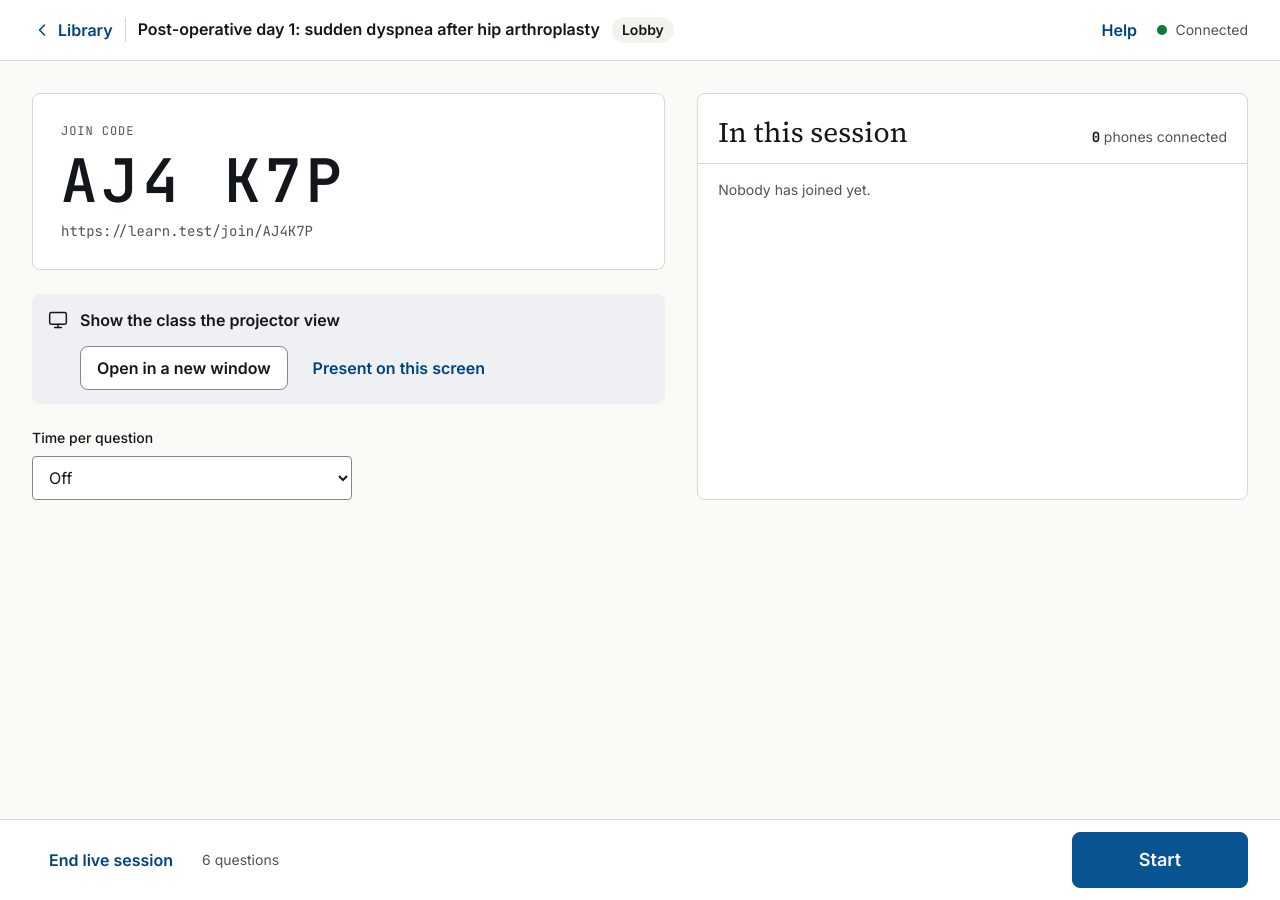
it: HostLobby running a case study (#184) › names the CJMM step with the position, and moves with the room
The width and height of the screenshot is (1280, 900).
Click the button "Start".
click(1160, 860)  # box 1072,832 -> 1248,888
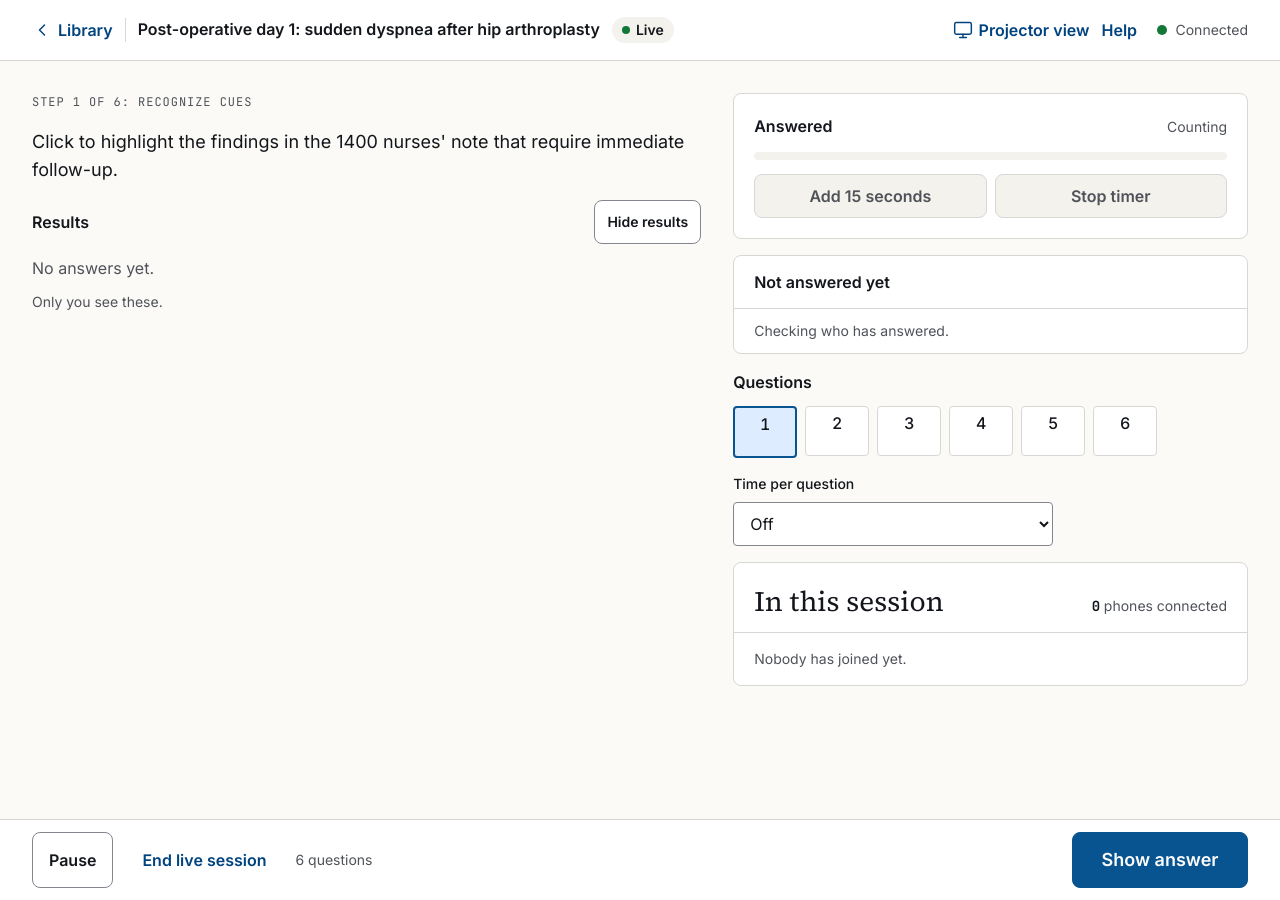
Now the text "Step 1 of 6: Recognize Cues" is shown, box 32,94 -> 252,110
Click the button "Show answer".
click(1160, 860)  # box 1072,832 -> 1248,888
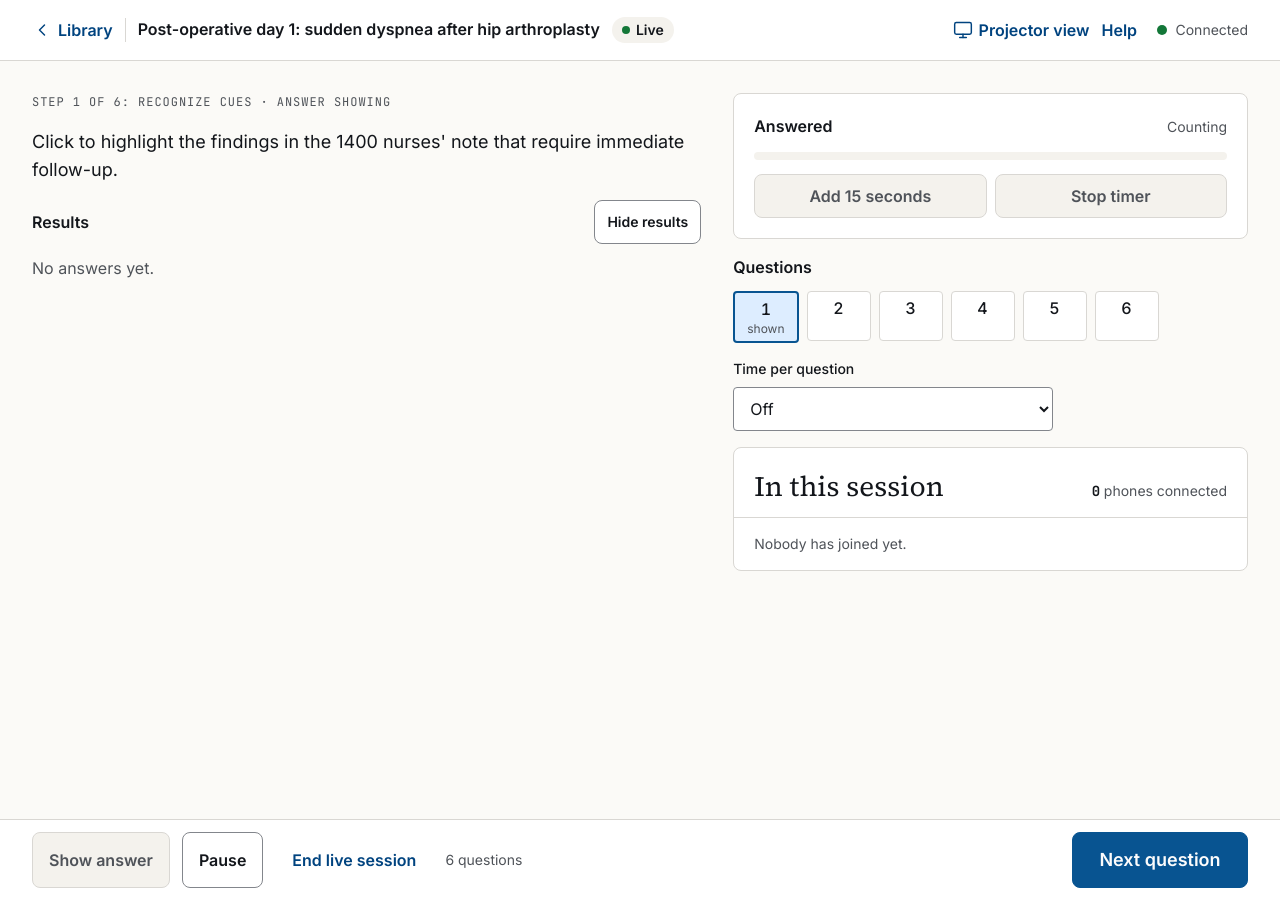
Click the button "Next question".
click(1160, 860)  # box 1072,832 -> 1248,888
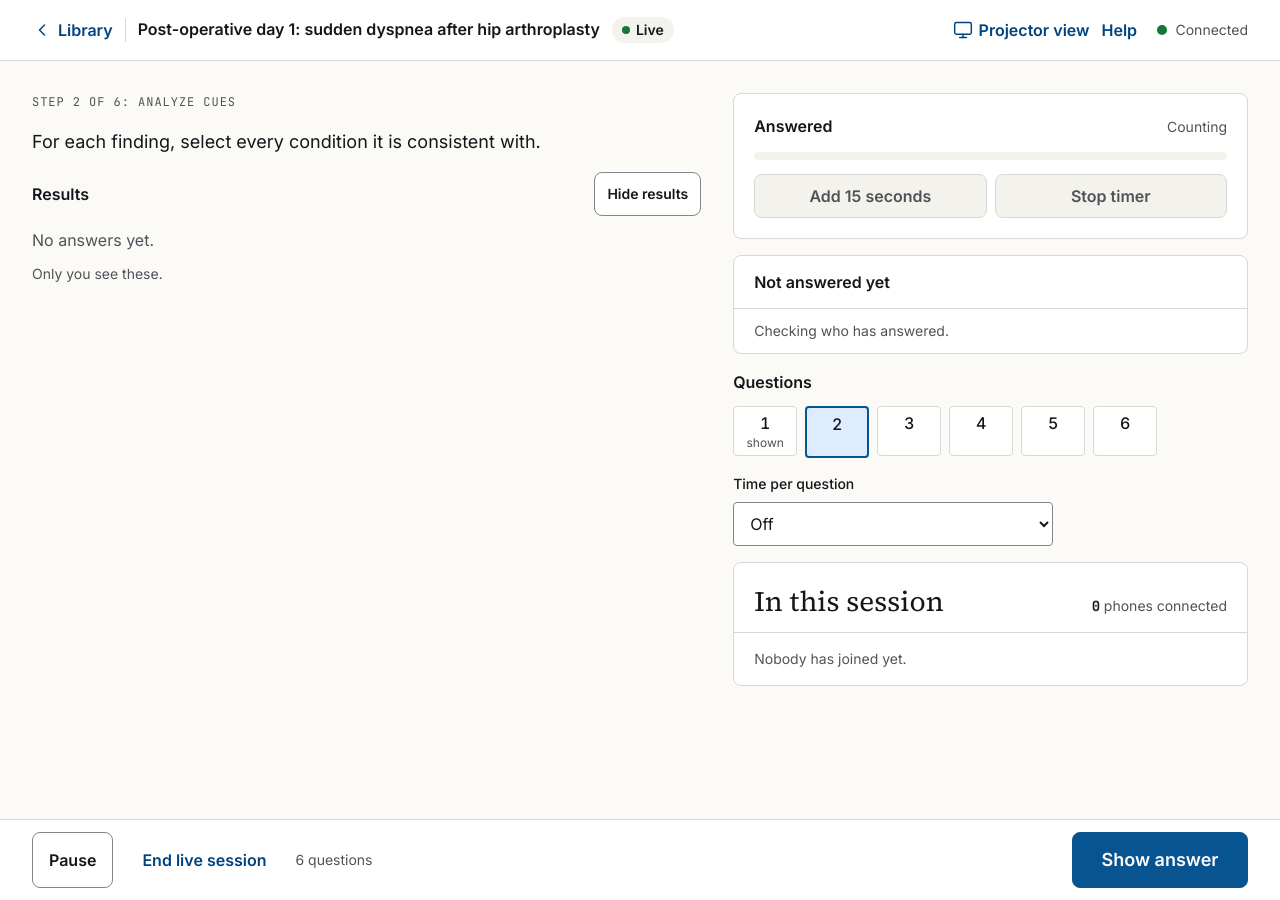
Now the text "Step 2 of 6: Analyze Cues" is shown, box 32,94 -> 236,110
